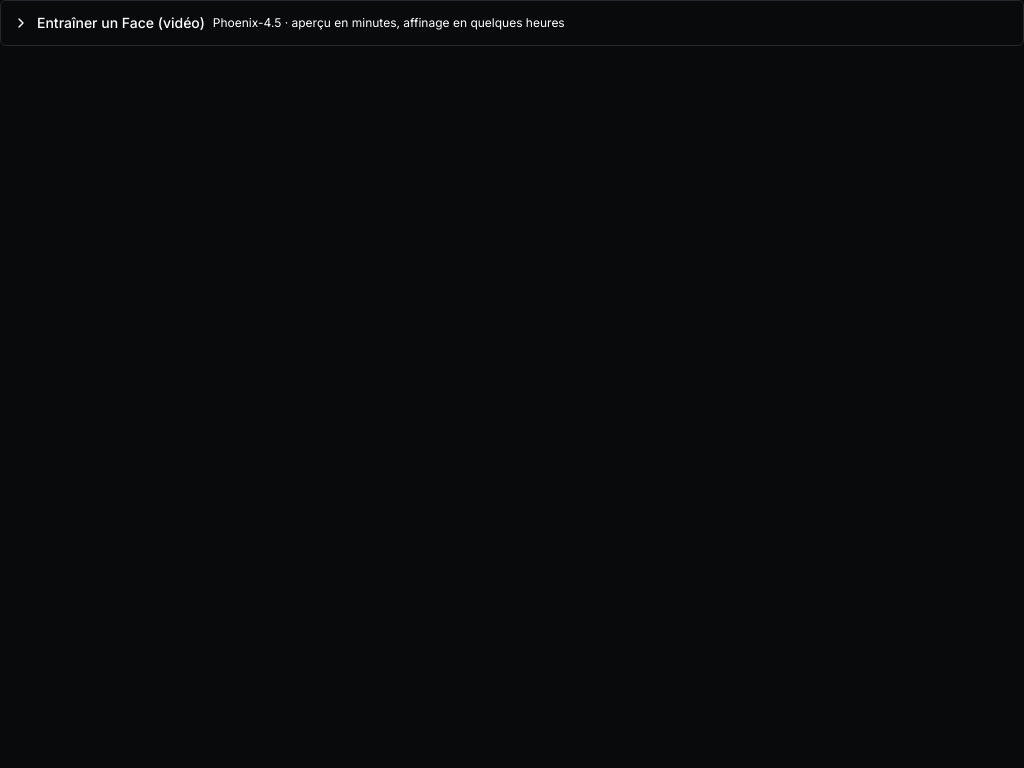
Test case: TavusFaceTrainer › lists the Faces, attaches a completed one and refuses one still training
The width and height of the screenshot is (1024, 768).
Later steps or results of the test are not shown.
Click the text "Entraîner un Face (vidéo)" at x=121, y=23, box [37,13,205,33]
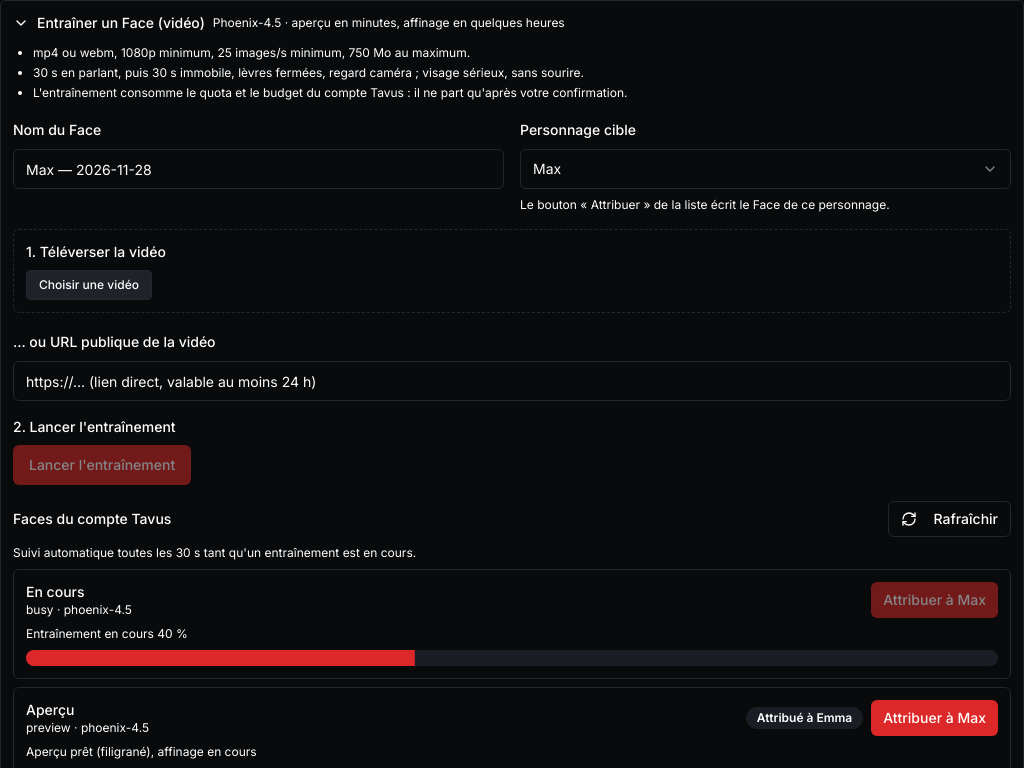
Expected: the text "En cours" is shown, [26,583,84,600]
Expected: the text "Entraînement en cours 40 %" is shown, [26,626,188,641]
Expected: the text "Attribué à Emma" is shown, [746,707,863,729]
